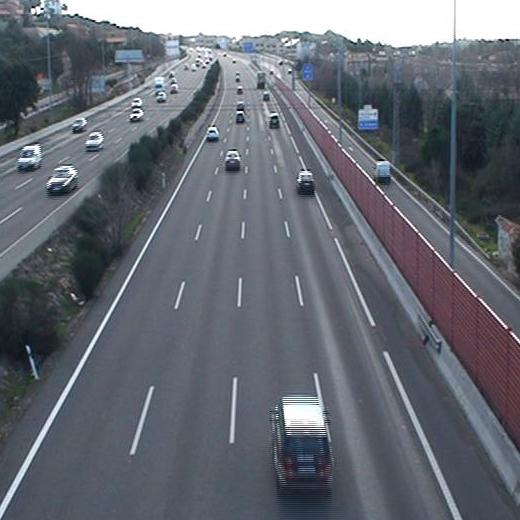car: (268, 395, 334, 490), (296, 168, 316, 191), (224, 148, 242, 169), (205, 126, 221, 142), (267, 113, 283, 129), (233, 108, 248, 125)
truck: (253, 69, 267, 92)
